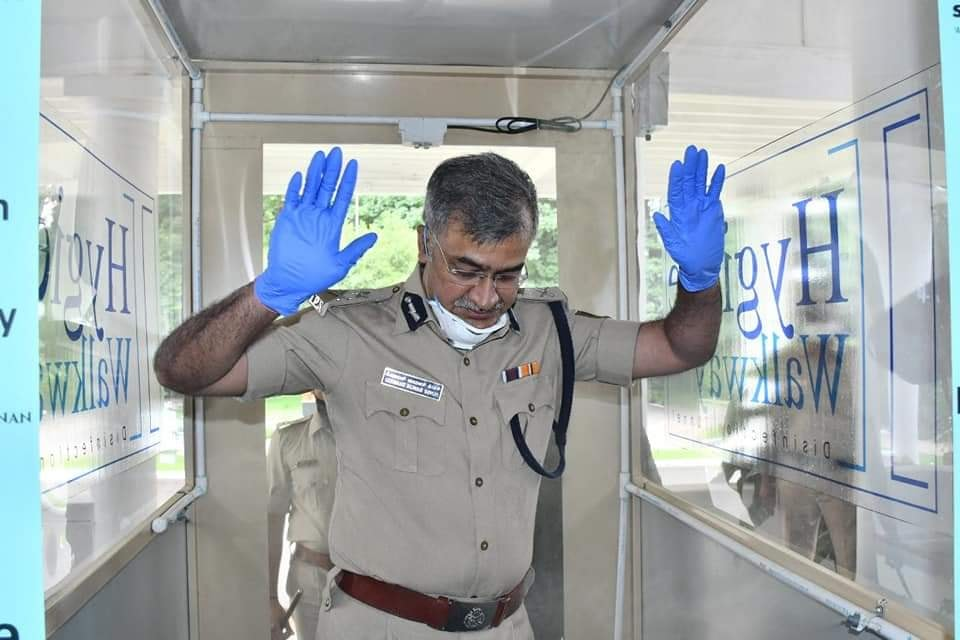mouth: (463, 310, 500, 316)
nose: (467, 296, 499, 307)
